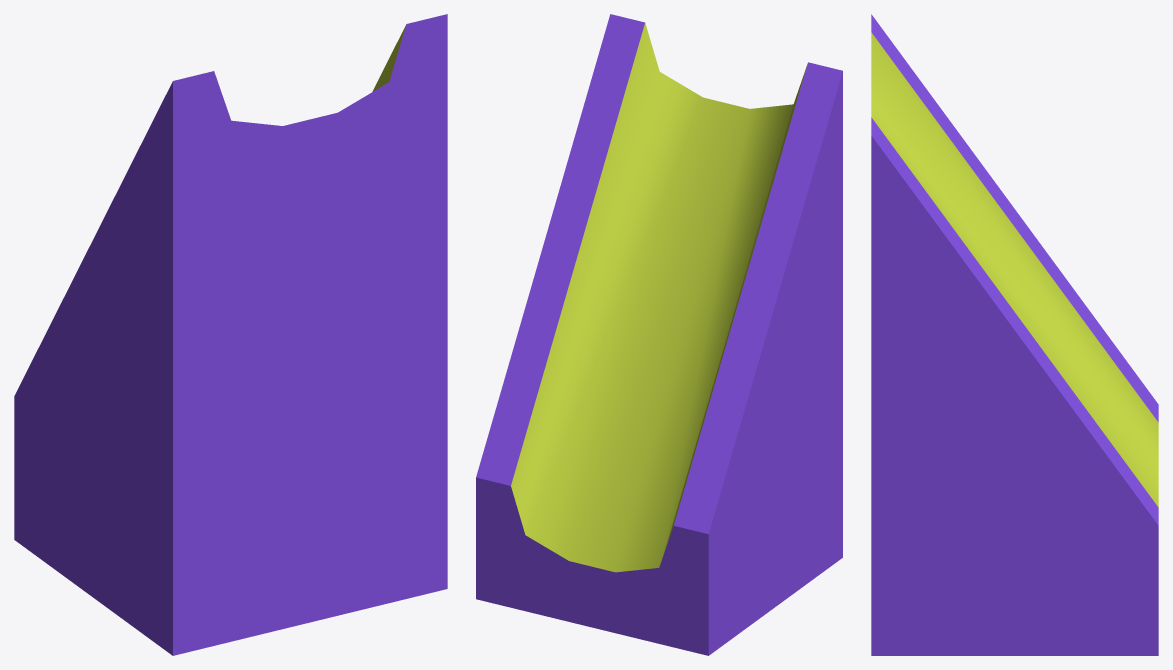
Rendered from slant_solid_D.fbx.
The picture shows the model from 3 angles, left to right: view 1: azimuth 30°, elevation 25°; view 2: azimuth 150°, elevation 25°; view 3: azimuth 270°, elevation 25°; orthographic projection. The views are drawn at different scales.
Parts seen in each view (by area): view 1: slant_solid_D; view 2: slant_solid_D; view 3: slant_solid_D.
Boxes of the visible parts, <box> form: slant_solid_D: <box>14,14,447,655</box>; slant_solid_D: <box>476,14,842,655</box>; slant_solid_D: <box>871,14,1158,655</box>.
Bounding box in the file's own units: 10 × 20 × 10.
